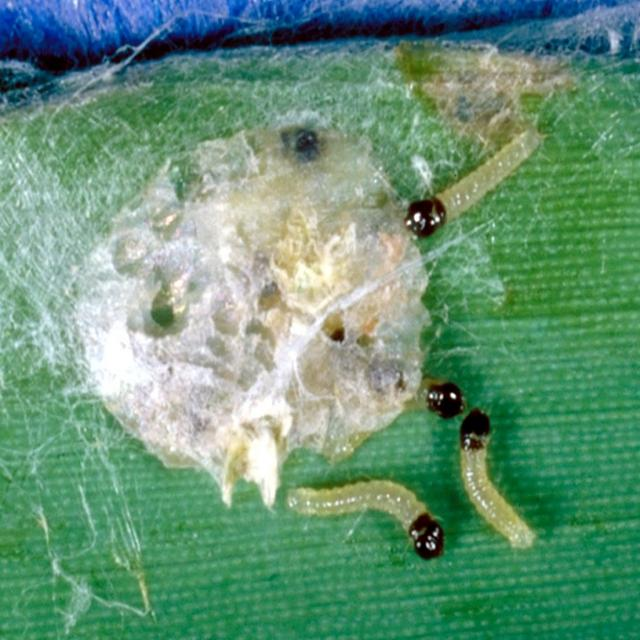cornborer-Larva-: (401, 125, 547, 244), (283, 475, 452, 565), (454, 401, 544, 558)
